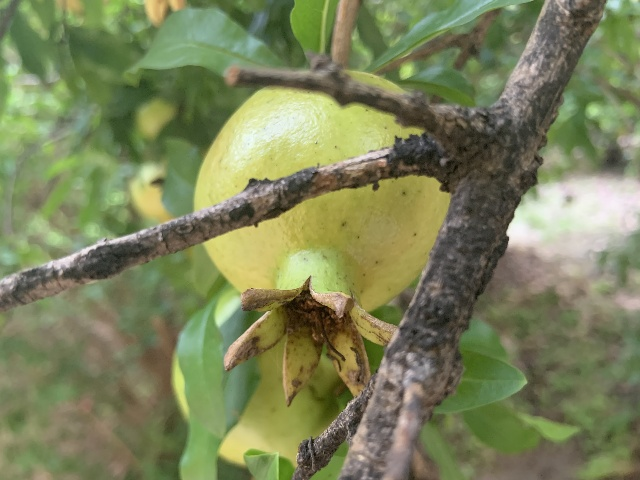mid-growth: (193, 71, 450, 407)
